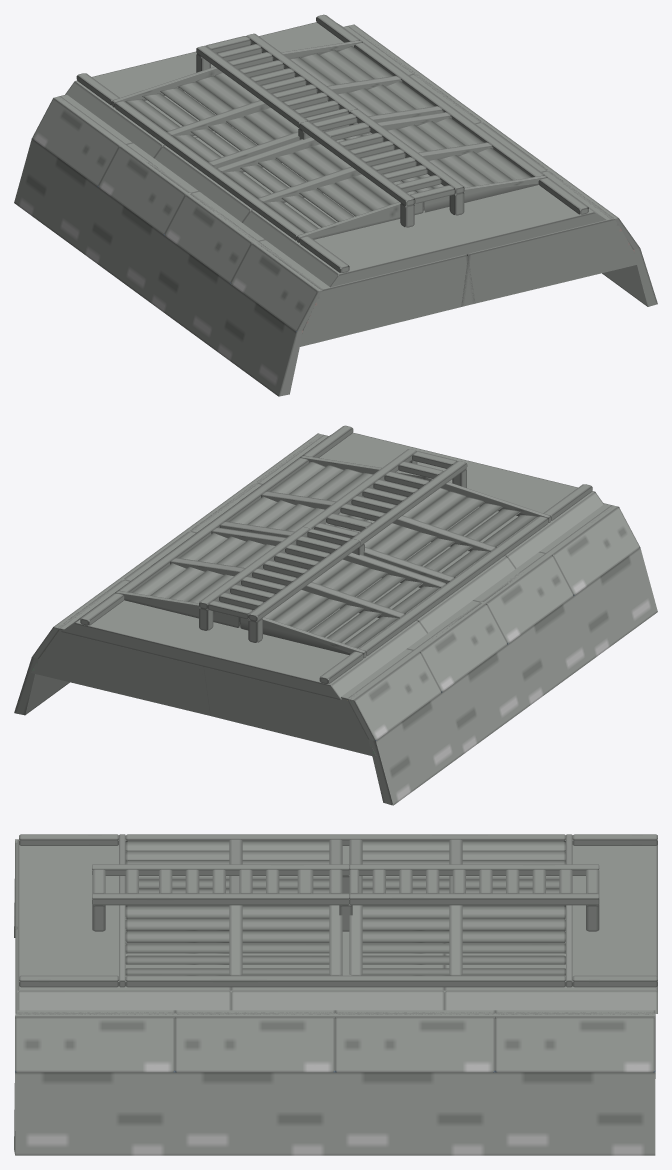
The model's file is df4d_radiator_a.obj.
The picture shows the model from 3 angles, top to bottom: view 1: azimuth 30°, elevation 25°; view 2: azimuth 150°, elevation 25°; view 3: azimuth 270°, elevation 25°; orthographic projection. The views are drawn at different scales.
Visible parts, largest first — view 1: df4d_radiator_a; view 2: df4d_radiator_a; view 3: df4d_radiator_a.
Part boxes in pixels (left/top/right/bottom): df4d_radiator_a: left=14, top=14, right=657, bottom=396; df4d_radiator_a: left=14, top=425, right=657, bottom=805; df4d_radiator_a: left=14, top=834, right=657, bottom=1155.
Bounding box in the file's own units: 3.31 × 1.11 × 4.02.
